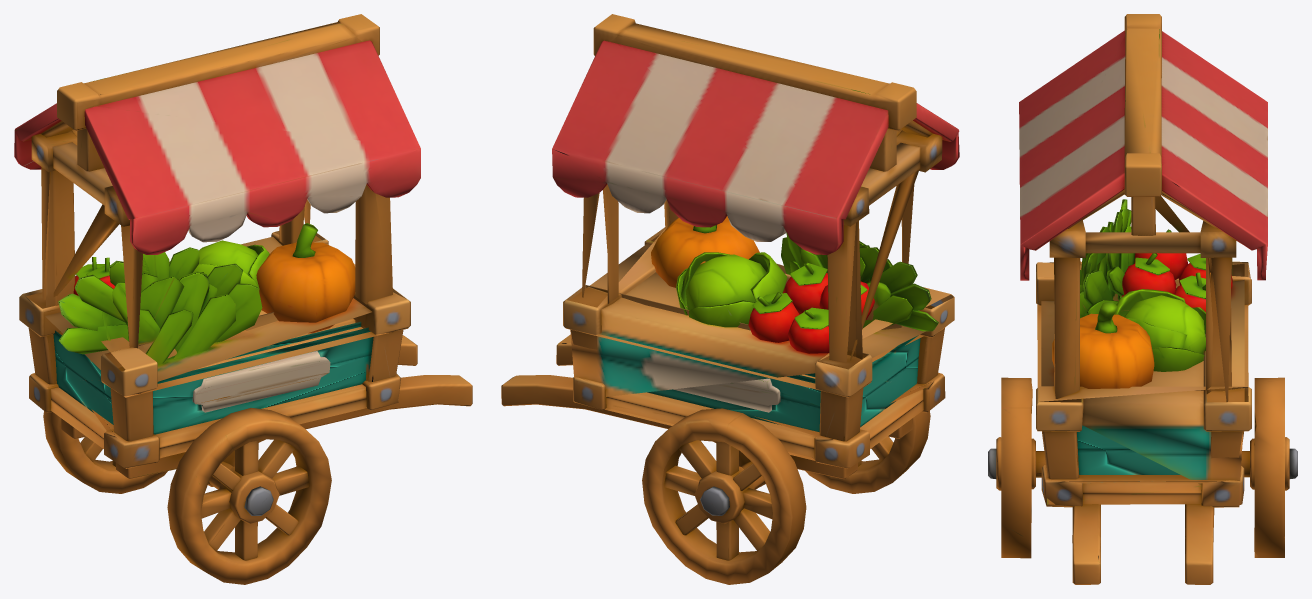
The model's file is cart_awning.glb.
The picture shows the model from 3 angles, left to right: view 1: azimuth 30°, elevation 25°; view 2: azimuth 150°, elevation 25°; view 3: azimuth 270°, elevation 25°; orthographic projection. The views are drawn at different scales.
Parts seen in each view (by area): view 1: geometry_0; view 2: geometry_0; view 3: geometry_0.
Boxes of the visible parts, x1,y1,x2,y2 form: geometry_0: (14,14,472,584); geometry_0: (501,14,959,584); geometry_0: (988,14,1297,584).
Bounding box in the file's own units: 0.8364 × 0.9526 × 0.561.
Materials: 1 (1 with a texture image).
